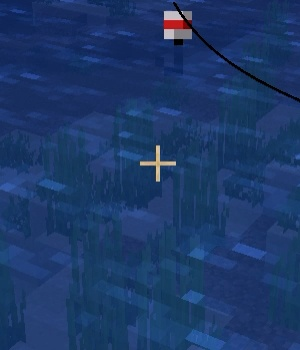up: (156, 9, 199, 76)
